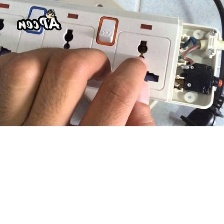three_eye_plug: (0, 0, 223, 112)
